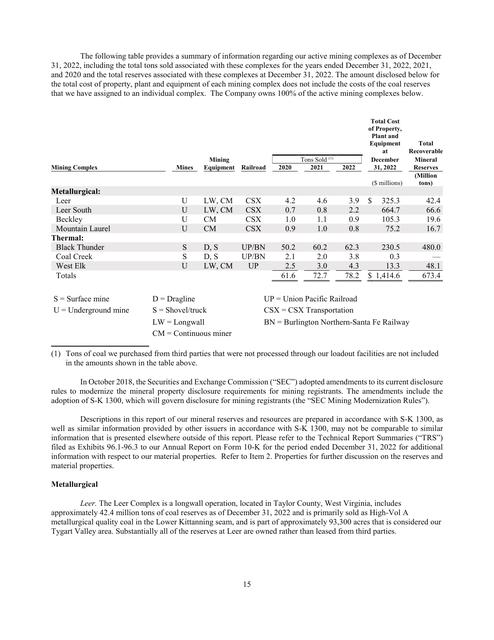box: (49, 116, 445, 339)
